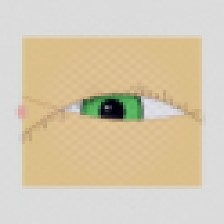pinguecula_lesion: (137, 93, 178, 127)
